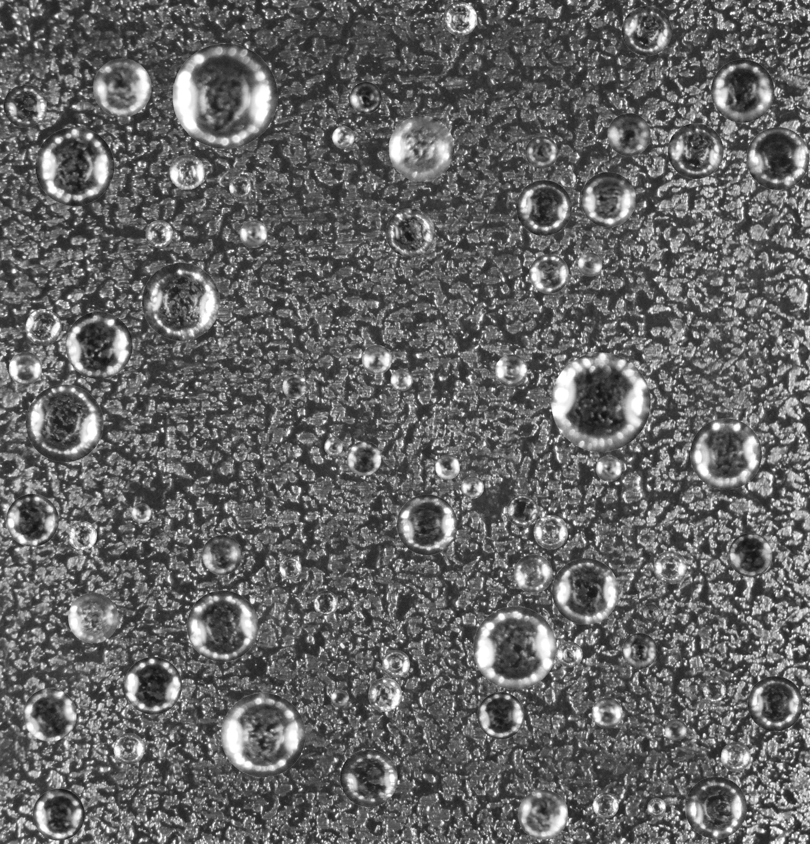Bubble: (172, 43, 277, 148), (551, 352, 650, 451), (221, 693, 305, 777), (473, 606, 556, 689), (35, 127, 114, 205), (25, 384, 103, 462), (142, 262, 219, 340), (186, 590, 258, 661), (690, 418, 761, 489), (65, 311, 132, 378), (552, 558, 618, 624), (388, 115, 454, 181), (711, 59, 774, 122), (746, 127, 809, 189), (685, 776, 747, 838), (396, 494, 457, 555), (93, 58, 151, 116), (340, 749, 397, 807), (124, 657, 181, 714), (747, 676, 802, 731), (668, 123, 723, 178), (580, 172, 635, 227), (516, 180, 571, 235), (23, 688, 76, 741), (6, 494, 58, 546), (32, 788, 84, 840), (68, 592, 118, 643), (518, 789, 568, 839), (385, 208, 434, 257), (622, 6, 671, 55), (477, 692, 524, 739), (728, 533, 772, 576), (607, 113, 650, 156), (3, 84, 46, 127), (202, 535, 242, 575), (529, 254, 568, 293), (514, 554, 552, 593), (25, 309, 61, 345), (169, 154, 204, 189), (622, 633, 657, 668), (533, 515, 568, 549), (347, 441, 381, 475), (443, 1, 477, 35), (653, 551, 687, 584), (368, 678, 401, 711), (8, 351, 41, 384), (525, 136, 558, 168), (349, 81, 381, 113), (495, 354, 527, 386), (506, 495, 538, 526), (113, 733, 144, 764), (591, 697, 622, 728), (361, 344, 391, 374), (721, 742, 750, 771), (67, 521, 96, 550), (239, 220, 267, 247), (145, 220, 172, 247), (382, 650, 409, 677), (596, 455, 622, 481), (593, 792, 618, 818), (557, 641, 582, 667), (282, 374, 307, 399), (313, 591, 338, 615), (435, 454, 459, 479), (578, 252, 602, 276), (776, 330, 799, 354), (703, 678, 726, 701), (279, 557, 301, 579), (390, 369, 412, 391), (332, 126, 354, 148), (229, 176, 251, 198), (461, 476, 483, 498), (664, 719, 686, 741), (131, 503, 151, 523), (647, 798, 666, 816), (324, 437, 342, 455), (641, 603, 659, 621), (331, 689, 349, 707), (560, 170, 576, 186), (25, 571, 37, 583)
